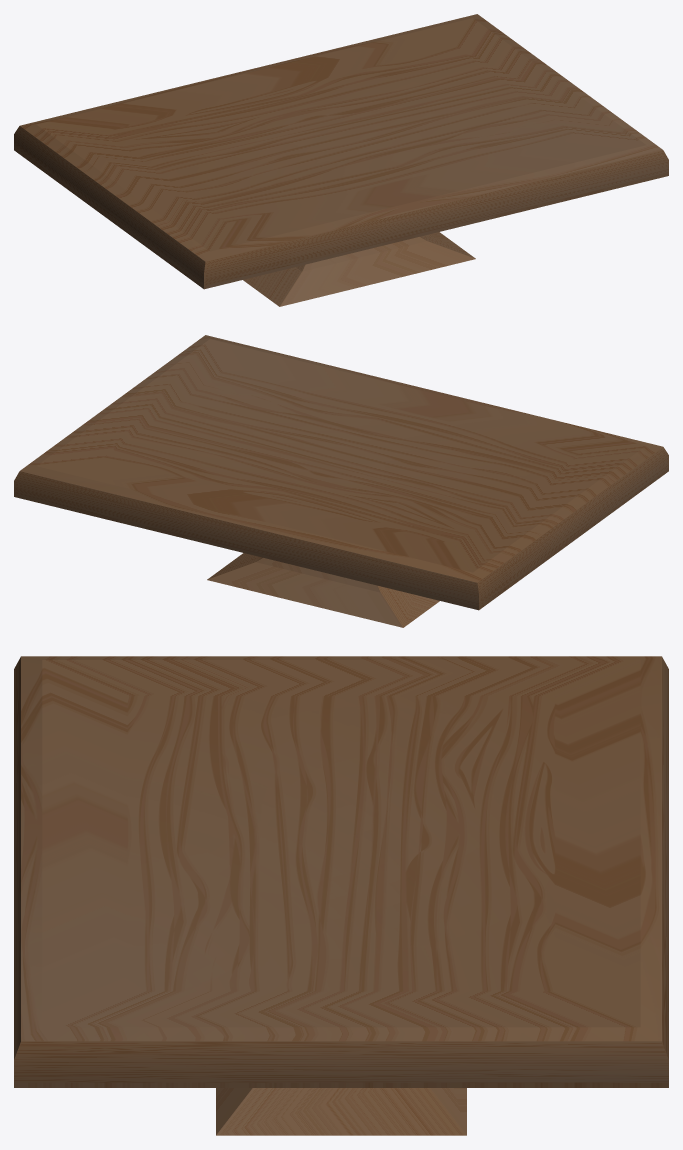
Rendered from Mesa 1.fbx.
3 renders of one model, top to bottom at view 1: azimuth 30°, elevation 25°; view 2: azimuth 150°, elevation 25°; view 3: azimuth 270°, elevation 25°, orthographic. The views are drawn at different scales.
Visible parts, largest first — view 1: Mesa; view 2: Mesa; view 3: Mesa.
Part boxes in pixels (left/top/right/bottom): Mesa: left=14, top=14, right=668, bottom=306; Mesa: left=14, top=335, right=668, bottom=627; Mesa: left=14, top=656, right=668, bottom=1135.
Bounding box in the file's own units: 329 × 82.04 × 233.
